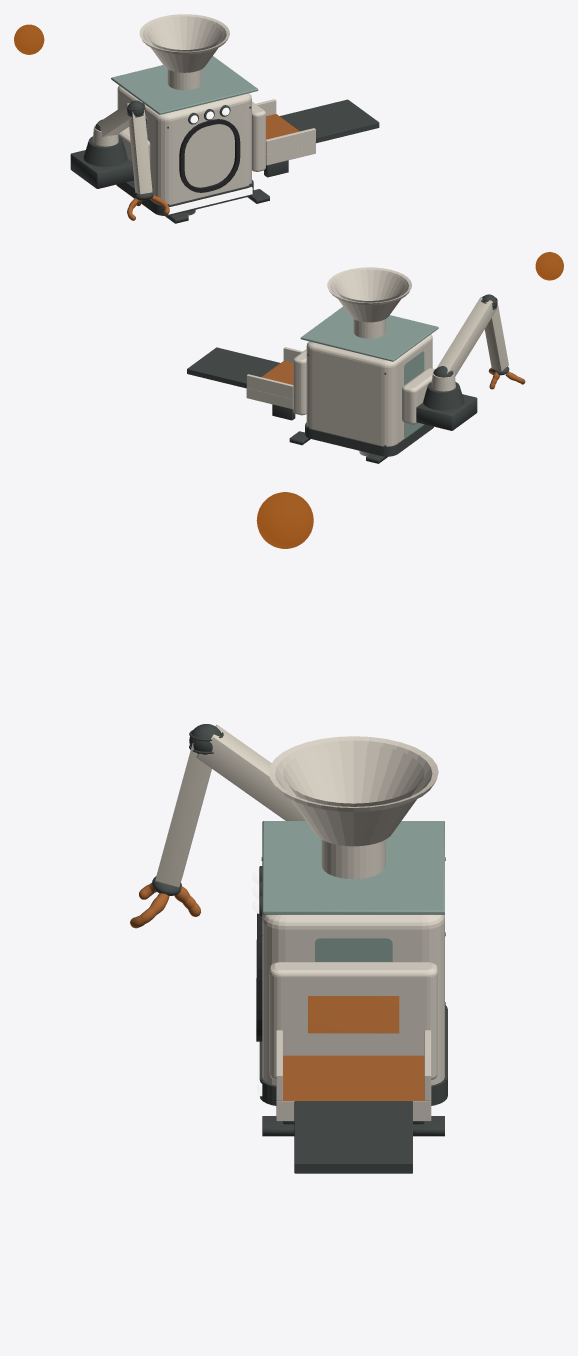
Rendered from hero_animation_v13_p3b.glb.
3 views of the same model, one above another, from view 1: azimuth 30°, elevation 25°; view 2: azimuth 150°, elevation 25°; view 3: azimuth 270°, elevation 25° (orthographic). The views are drawn at different scales.
Parts seen in each view (by area): view 1: Machine_Body, Machine_Chute, Machine_Hopper, Machine_Panel_Top, Arm_Forearm, Arm_Mount, Machine_WindowFrame, Arm_Base, P1_ChuteSeat, P1_BaseBand, Idea, Machine_LightStrip (+5 smaller); view 2: Machine_Body, Machine_Chute, Machine_Hopper, Machine_Panel_Top, Arm_UpperArm, P1_BaseBand, Arm_Mount, P1_ShoulderBay, Arm_Forearm, P1_ChuteSeat, Arm_Base, Idea (+3 smaller); view 3: Machine_Chute, Machine_Hopper, Machine_Panel_Top, P1_ChuteSeat, Machine_Body, Arm_UpperArm, Outlet_Flap, Arm_Forearm, Idea, P1_MintStrip_R, Machine_Base, P1_BaseBand.
Boxes of the visible parts, x1,y1,x2,y2 form: Machine_Body: (117, 85, 251, 204); Machine_Chute: (255, 99, 379, 165); Machine_Hopper: (139, 14, 229, 90); Machine_Panel_Top: (111, 56, 258, 114); Arm_Forearm: (128, 110, 152, 194); Arm_Mount: (70, 150, 133, 188); Machine_WindowFrame: (179, 119, 240, 192); Arm_Base: (83, 136, 127, 166); P1_ChuteSeat: (252, 101, 265, 171); P1_BaseBand: (116, 180, 253, 215); Idea: (14, 24, 44, 54); Machine_LightStrip: (168, 187, 252, 214); Machine_Body: (306, 334, 432, 446); Machine_Chute: (187, 347, 302, 409); Machine_Hopper: (327, 267, 411, 338); Machine_Panel_Top: (300, 306, 438, 361); Arm_UpperArm: (436, 297, 496, 376); P1_BaseBand: (305, 422, 433, 456); Arm_Mount: (416, 394, 477, 430); P1_ShoulderBay: (402, 368, 434, 424); Arm_Forearm: (484, 302, 508, 371); P1_ChuteSeat: (293, 349, 306, 415); Arm_Base: (423, 382, 464, 410); Idea: (535, 252, 563, 280); Machine_Chute: (276, 1030, 431, 1173); Machine_Hopper: (269, 736, 438, 879); Machine_Panel_Top: (262, 821, 444, 914); P1_ChuteSeat: (269, 962, 437, 1079); Machine_Body: (262, 913, 444, 1085); Arm_UpperArm: (196, 724, 305, 820); Outlet_Flap: (308, 996, 399, 1033); Arm_Forearm: (155, 743, 211, 887); Idea: (256, 492, 313, 548); P1_MintStrip_R: (315, 938, 392, 961); Machine_Base: (262, 1116, 444, 1136); P1_BaseBand: (259, 1005, 447, 1105).
Size of the model in its own units: 10.75 by 4.37 by 2.79.
